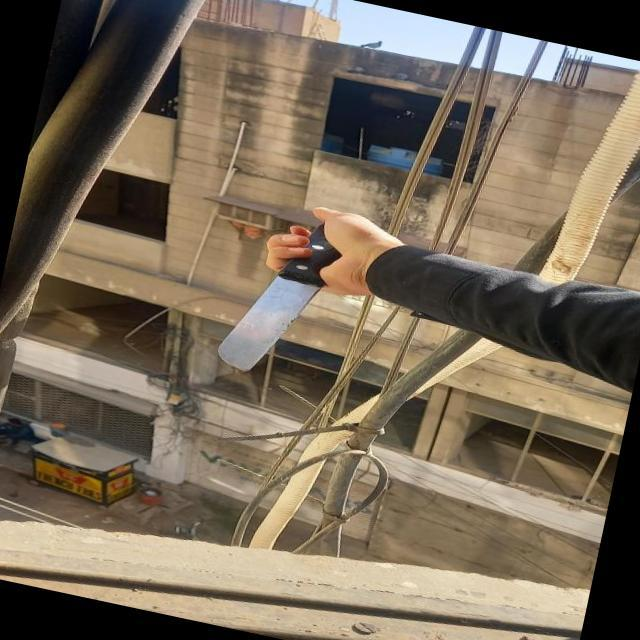Knife: (208, 203, 358, 392)
